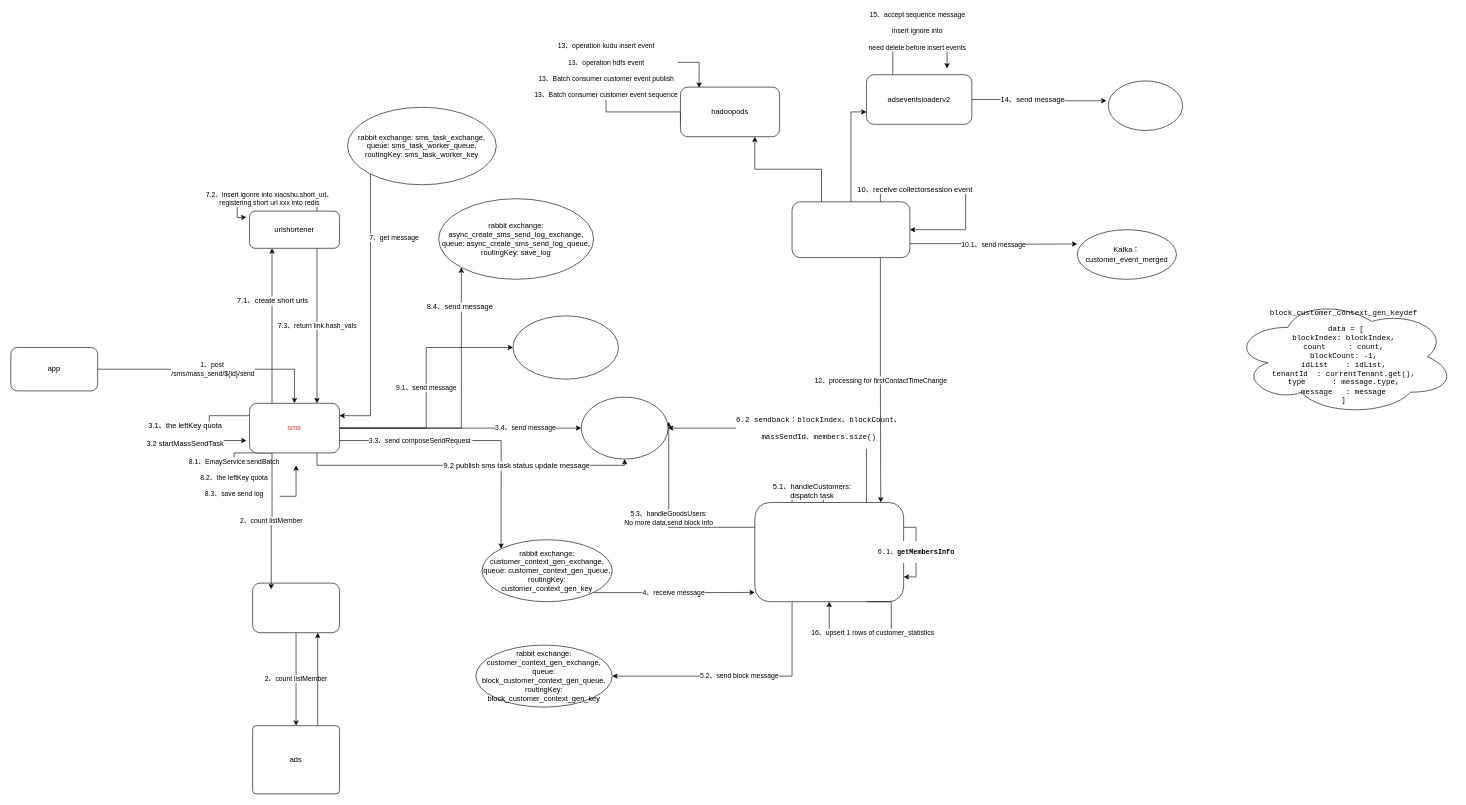
Image size: 1466x805. Some labels were removed from this diagram. Each missing label, with the box of its shape:
customer: (252, 582, 339, 633)
customer_backend: (754, 502, 904, 602)
etlv2: (791, 201, 910, 258)
Kafka:customer-cevent-sequence: (1108, 80, 1183, 131)
Kafka： customer_event_ from_collectorsession: (512, 315, 618, 379)
Kafka：sms-job-update-status: (581, 396, 668, 459)
